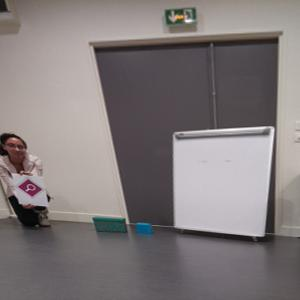search: (18, 179, 43, 197)
